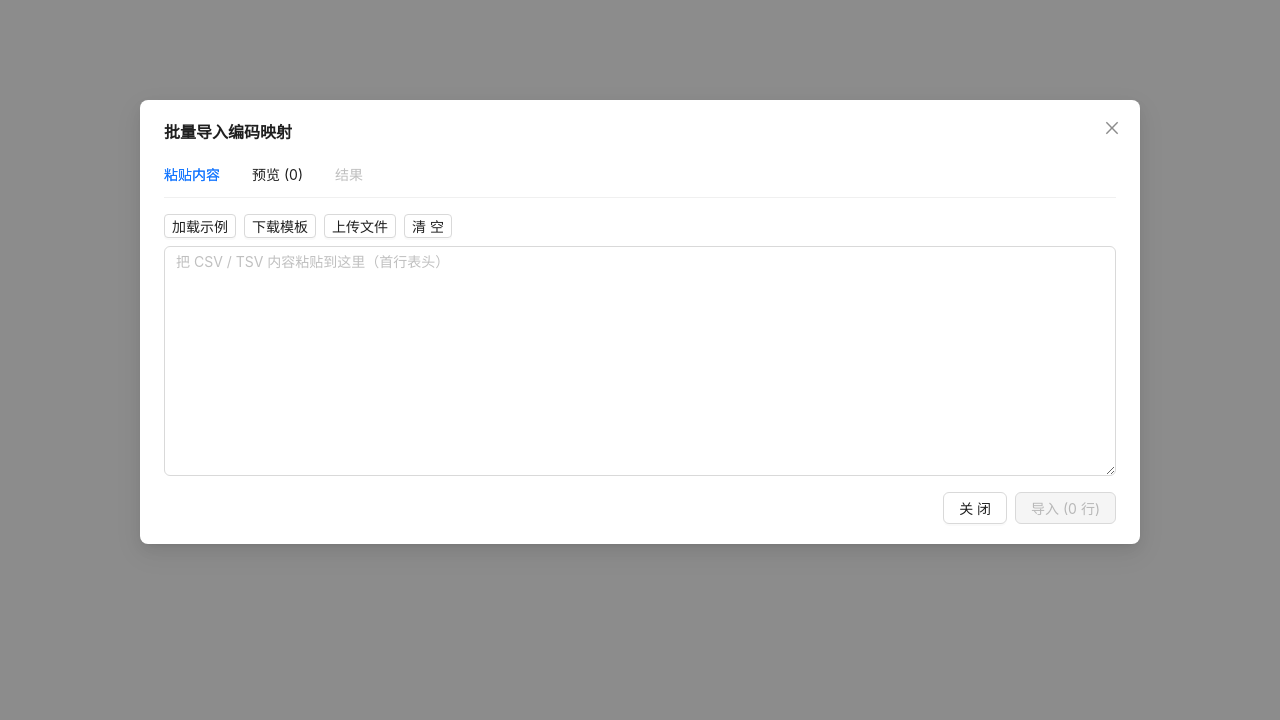
it: BulkImportModal › 「加载示例」灌入 TSV 样例并解析出 3 行有效数据（分隔符识别为 Tab）
Click the button "加载示例" at (200, 226), box [164, 214, 236, 238]
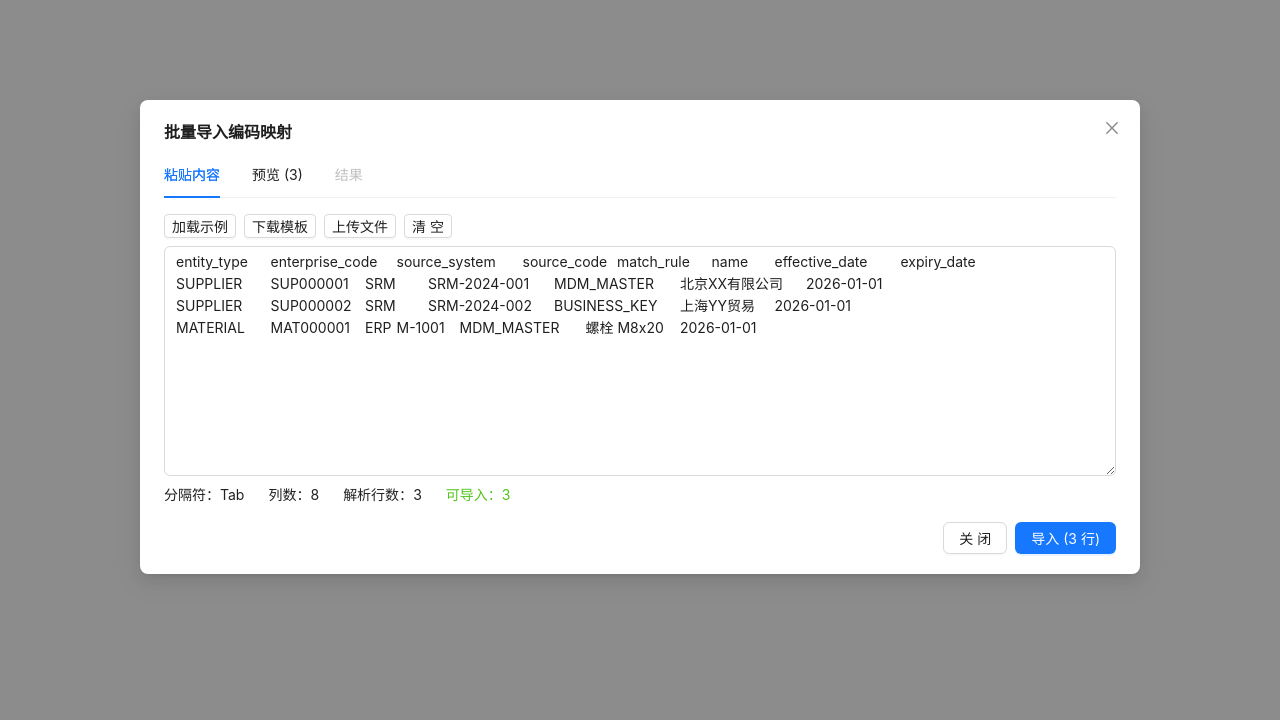
Expected: the text "解析行数：3" is shown, [343, 486, 422, 503]
Expected: the text "可导入：3" is shown, [446, 486, 510, 503]
Expected: the text "分隔符：Tab" is shown, [164, 486, 244, 503]
